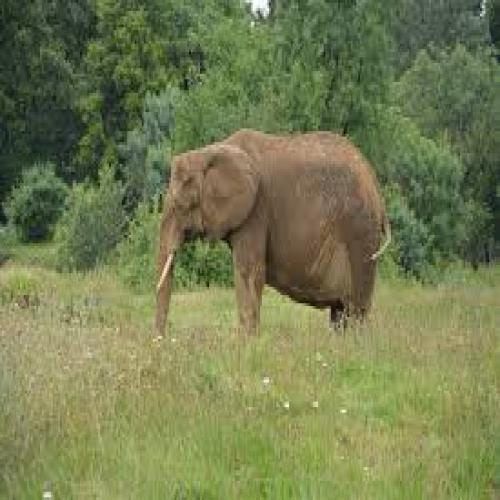asian_elephant-endangered: (152, 131, 390, 332)
